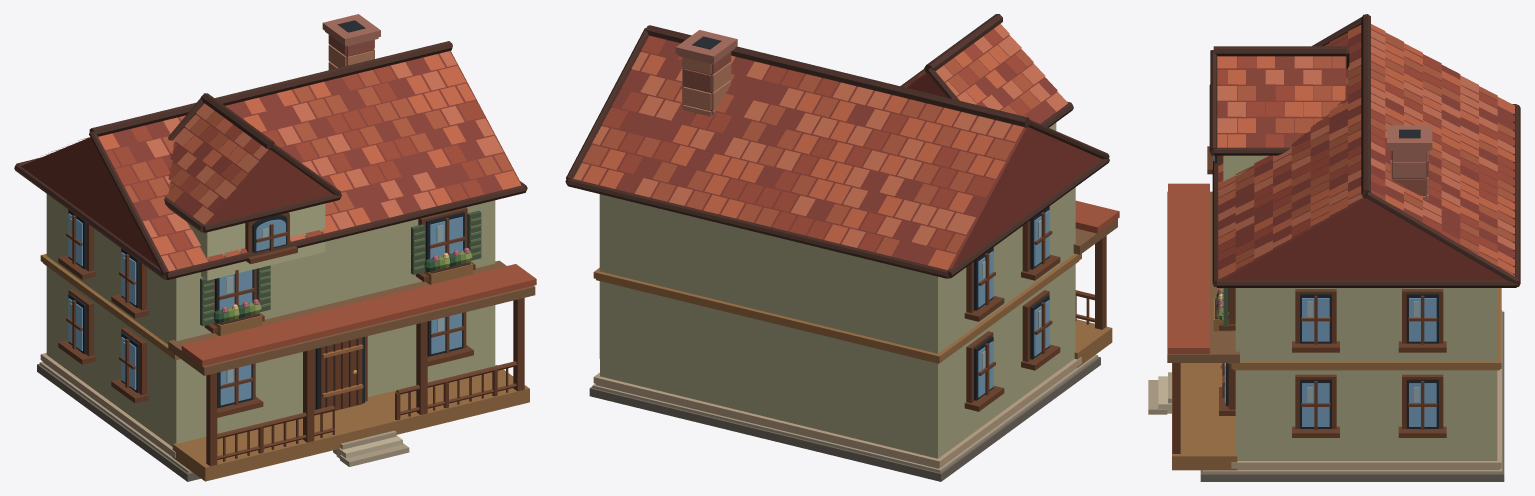
Rendered from moradia-nivel-4.glb.
The picture shows the model from 3 angles, left to right: view 1: azimuth 30°, elevation 25°; view 2: azimuth 150°, elevation 25°; view 3: azimuth 270°, elevation 25°; orthographic projection. The views are drawn at different scales.
Parts seen in each view (by area): view 1: Moradia 04 #b4b28a, Moradia 04 #853e33, Moradia 04 #70432c, Moradia 04 #a8563c, Moradia 04 #4c3028, Moradia 04 #9f7145, Moradia 04 #9b4735, Moradia 04 #c06b4f, Moradia 04 #bf6243, Moradia 04 #567185, Moradia 04 #886143, Moradia 04 #252c32 (+10 smaller); view 2: Moradia 04 #b4b28a, Moradia 04 #853e33, Moradia 04 #c06b4f, Moradia 04 #bf6243, Moradia 04 #4c3028, Moradia 04 #a8563c, Moradia 04 #9b4735, Moradia 04 #70432c, Moradia 04 #9f7145, Moradia 04 #c0a789, Moradia 04 #746c62, Moradia 04 #b4a38a (+6 smaller); view 3: Moradia 04 #b4b28a, Moradia 04 #853e33, Moradia 04 #a8563c, Moradia 04 #4c3028, Moradia 04 #bf6243, Moradia 04 #9b4735, Moradia 04 #c06b4f, Moradia 04 #9f7145, Moradia 04 #70432c, Moradia 04 #567185, Moradia 04 #746c62, Moradia 04 #c0a789 (+6 smaller).
Boxes of the visible parts, left/top/right/bottom form: Moradia 04 #b4b28a: left=46, top=194, right=495, bottom=446; Moradia 04 #853e33: left=21, top=51, right=520, bottom=269; Moradia 04 #70432c: left=58, top=207, right=524, bottom=466; Moradia 04 #a8563c: left=37, top=70, right=536, bottom=366; Moradia 04 #4c3028: left=14, top=41, right=527, bottom=410; Moradia 04 #9f7145: left=40, top=254, right=529, bottom=481; Moradia 04 #9b4735: left=62, top=66, right=484, bottom=261; Moradia 04 #c06b4f: left=41, top=51, right=503, bottom=271; Moradia 04 #bf6243: left=24, top=54, right=521, bottom=265; Moradia 04 #567185: left=68, top=213, right=462, bottom=405; Moradia 04 #886143: left=168, top=260, right=535, bottom=375; Moradia 04 #252c32: left=68, top=20, right=464, bottom=409; Moradia 04 #b4b28a: left=599, top=187, right=1075, bottom=458; Moradia 04 #853e33: left=581, top=29, right=1101, bottom=269; Moradia 04 #c06b4f: left=573, top=24, right=1067, bottom=247; Moradia 04 #bf6243: left=583, top=45, right=1023, bottom=269; Moradia 04 #4c3028: left=565, top=14, right=1109, bottom=278; Moradia 04 #a8563c: left=582, top=50, right=1119, bottom=256; Moradia 04 #9b4735: left=602, top=29, right=1030, bottom=251; Moradia 04 #70432c: left=964, top=212, right=1106, bottom=411; Moradia 04 #9f7145: left=593, top=254, right=1112, bottom=367; Moradia 04 #c0a789: left=593, top=357, right=1081, bottom=468; Moradia 04 #746c62: left=589, top=356, right=1100, bottom=481; Moradia 04 #b4a38a: left=592, top=354, right=1097, bottom=472; Moradia 04 #b4b28a: left=1235, top=288, right=1497, bottom=460; Moradia 04 #853e33: left=1217, top=29, right=1514, bottom=280; Moradia 04 #a8563c: left=1168, top=32, right=1514, bottom=353; Moradia 04 #4c3028: left=1209, top=14, right=1520, bottom=319; Moradia 04 #bf6243: left=1217, top=24, right=1514, bottom=279; Moradia 04 #9b4735: left=1217, top=32, right=1514, bottom=261; Moradia 04 #c06b4f: left=1217, top=30, right=1514, bottom=276; Moradia 04 #9f7145: left=1172, top=288, right=1501, bottom=470; Moradia 04 #70432c: left=1172, top=146, right=1446, bottom=453; Moradia 04 #567185: left=1213, top=155, right=1436, bottom=426; Moradia 04 #746c62: left=1200, top=311, right=1504, bottom=481; Moradia 04 #c0a789: left=1231, top=369, right=1501, bottom=469.
Size of the model in its own units: 7.79 by 6.42 by 6.83.
